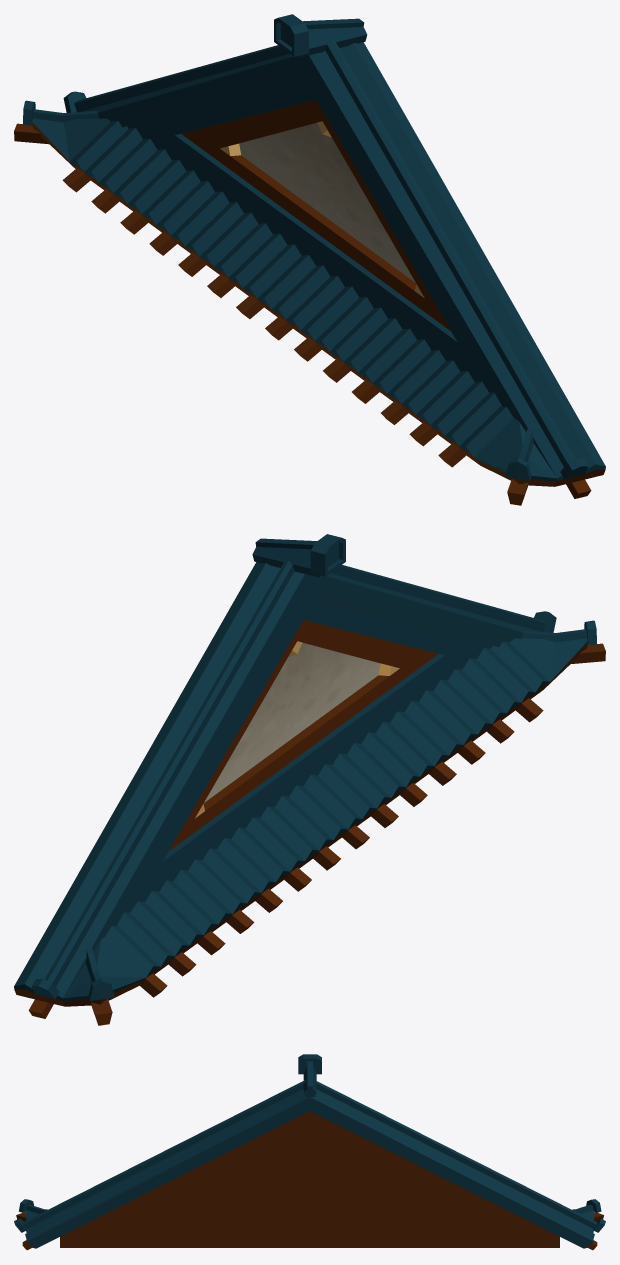
Rendered from Bld_Dojo_Roof_End.fbx.
3 renders of one model, top to bottom at view 1: azimuth 30°, elevation 25°; view 2: azimuth 150°, elevation 25°; view 3: azimuth 270°, elevation 25°, orthographic. The views are drawn at different scales.
Parts seen in each view (by area): view 1: Bld_Dojo_Roof_End; view 2: Bld_Dojo_Roof_End; view 3: Bld_Dojo_Roof_End.
Part boxes in pixels (left/top/right/bottom): Bld_Dojo_Roof_End: left=14, top=14, right=605, bottom=505; Bld_Dojo_Roof_End: left=14, top=534, right=605, bottom=1025; Bld_Dojo_Roof_End: left=14, top=1054, right=605, bottom=1250.
Bounding box in the file's own units: 277 × 809 × 2420.
